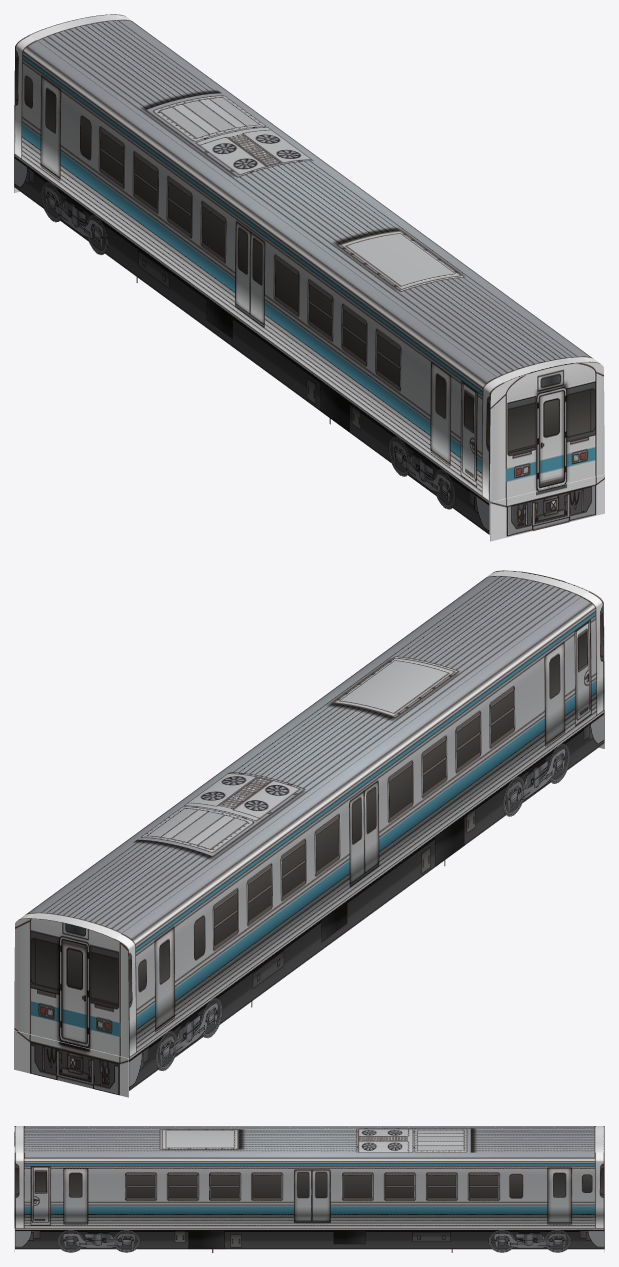
The model's file is car1.glb.
3 views of the same model, one above another, from view 1: azimuth 30°, elevation 25°; view 2: azimuth 150°, elevation 25°; view 3: azimuth 270°, elevation 25° (orthographic). The views are drawn at different scales.
Parts seen in each view (by area): view 1: jr-shikoku-1000-car1; view 2: jr-shikoku-1000-car1; view 3: jr-shikoku-1000-car1.
Boxes of the visible parts, x1,y1,x2,y2 form: jr-shikoku-1000-car1: (14,14,604,541); jr-shikoku-1000-car1: (14,570,604,1097); jr-shikoku-1000-car1: (14,1126,604,1252).
Bounding box in the file's own units: 2.89 × 3.83 × 20.83.
8 materials, 7 textured.
